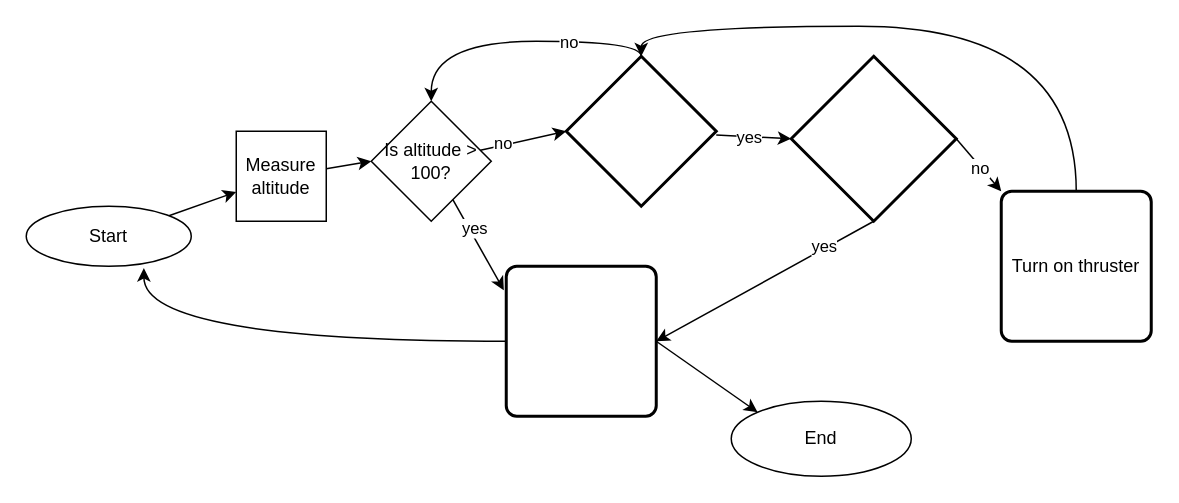
Some shapes in this 1179 by 503 pixel diagram are drawn without their labels. The centre of each missing label's shape, as x and y in pixels:
"Is altitude < 100" goes at (x=640, y=130).
"Is altitude less than og equal to 0" goes at (x=873, y=138).
"Turn off Thruster" goes at (x=580, y=340).
